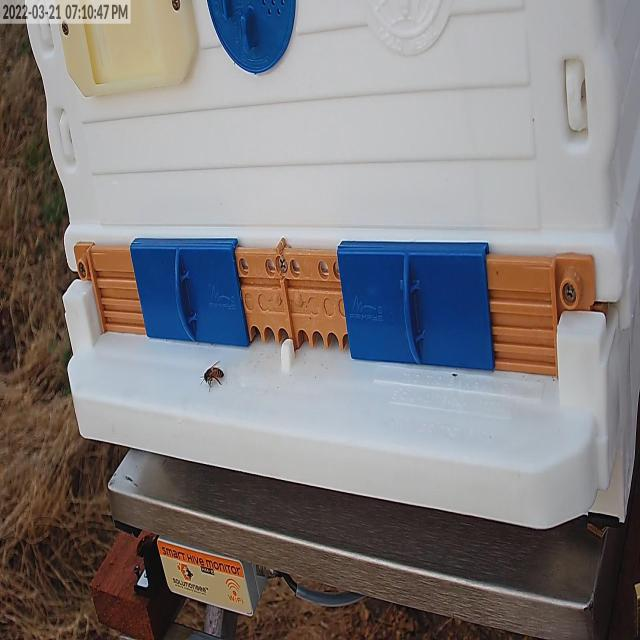honeybee: (185, 355, 229, 415)
